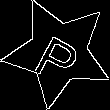P_NE: (30, 21, 87, 84)
